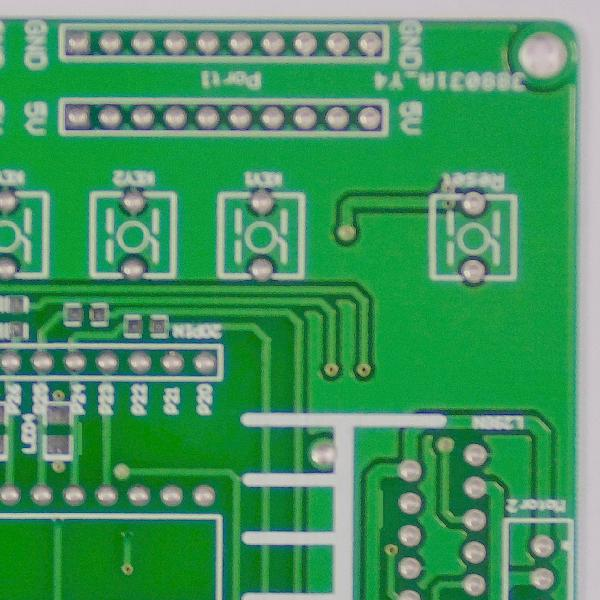spur: (368, 483, 390, 533), (66, 418, 91, 462)
